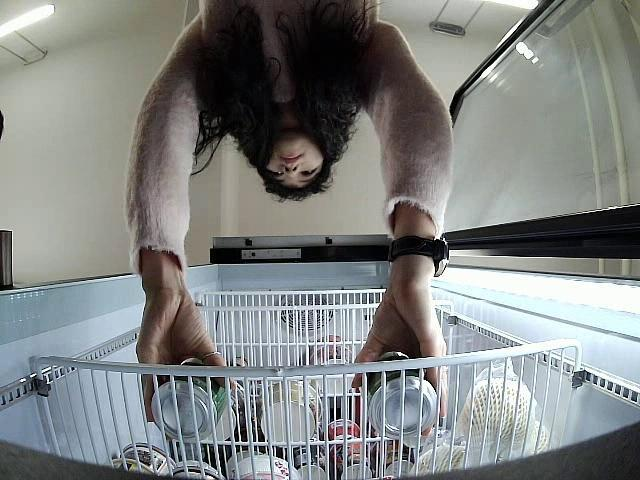12_chilsungCider: (359, 353, 440, 440), (151, 360, 228, 437)
